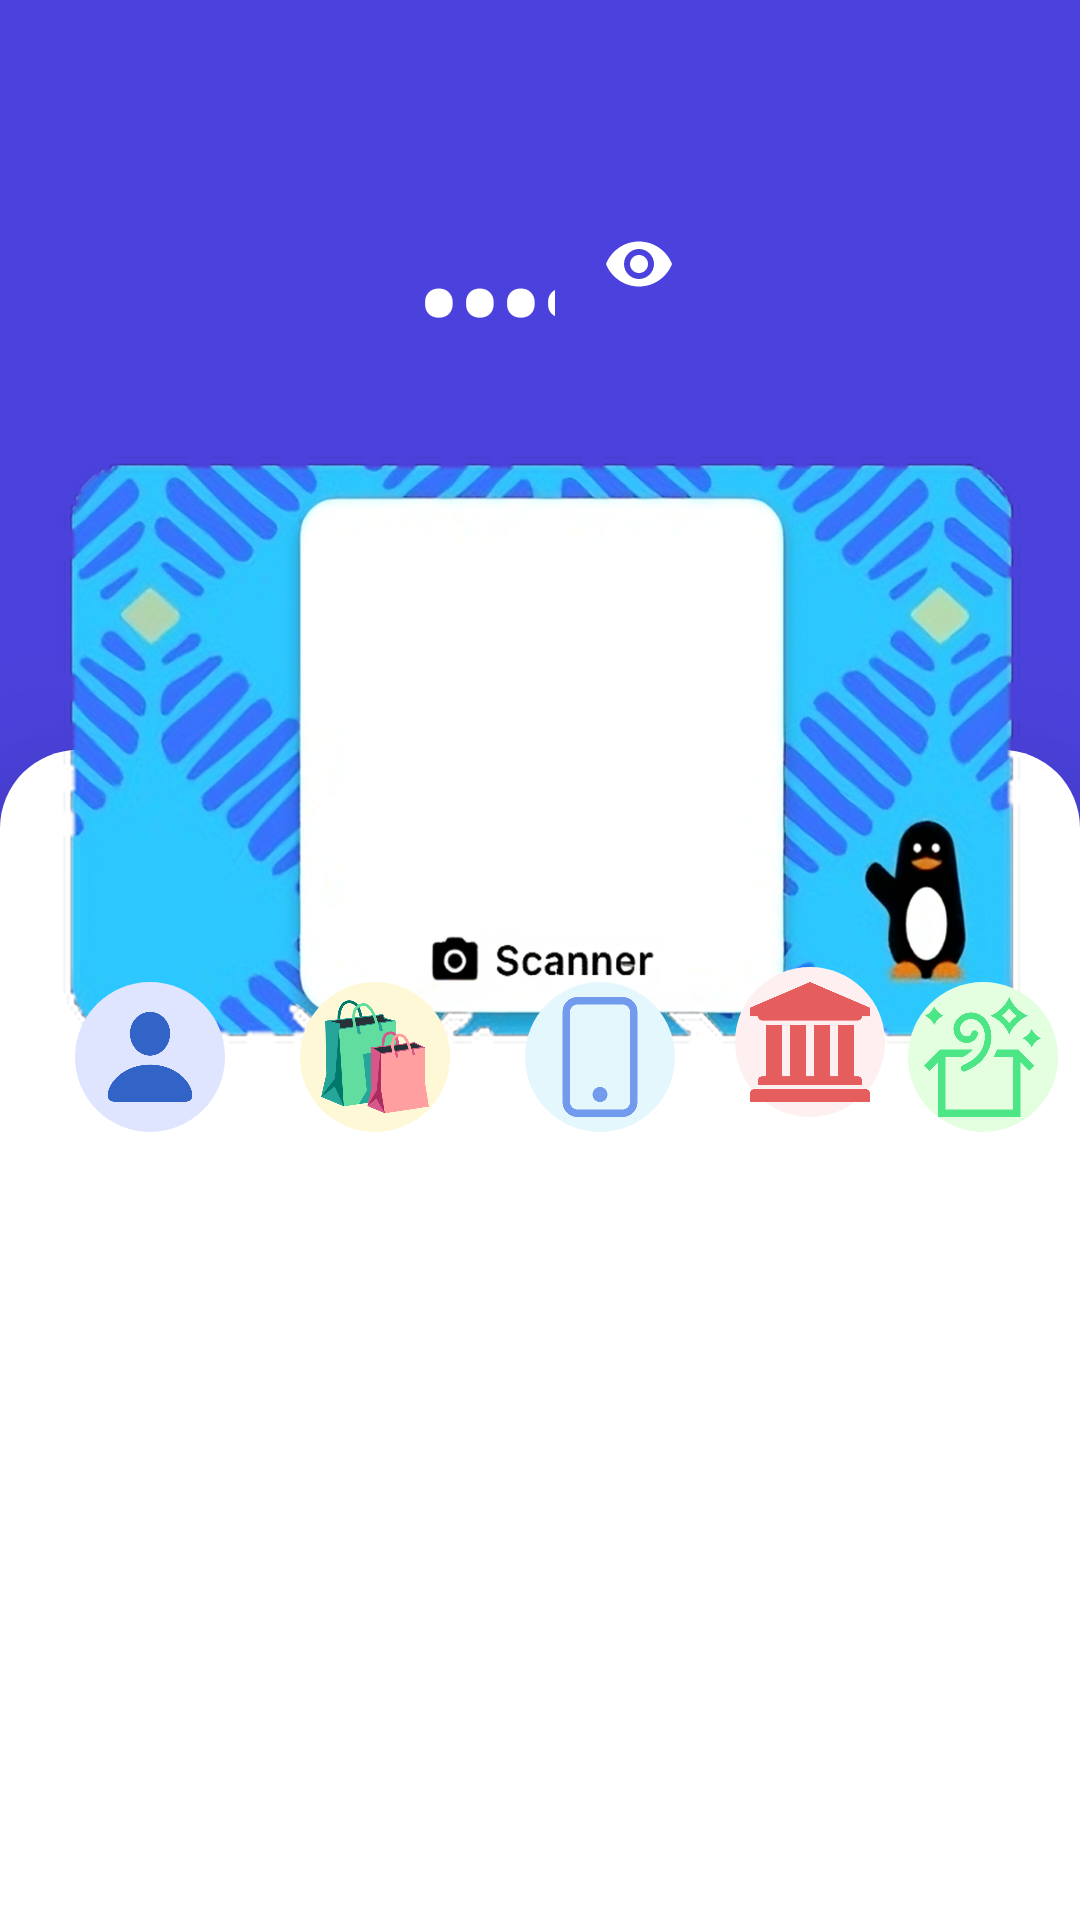

Screen size 1080w x 1920h. Icon name, then its center in pixels as (x,y):
bank: (810,1042)
gift: (983,1057)
person: (150,1057)
phone: (600,1057)
shopping: (375,1057)
